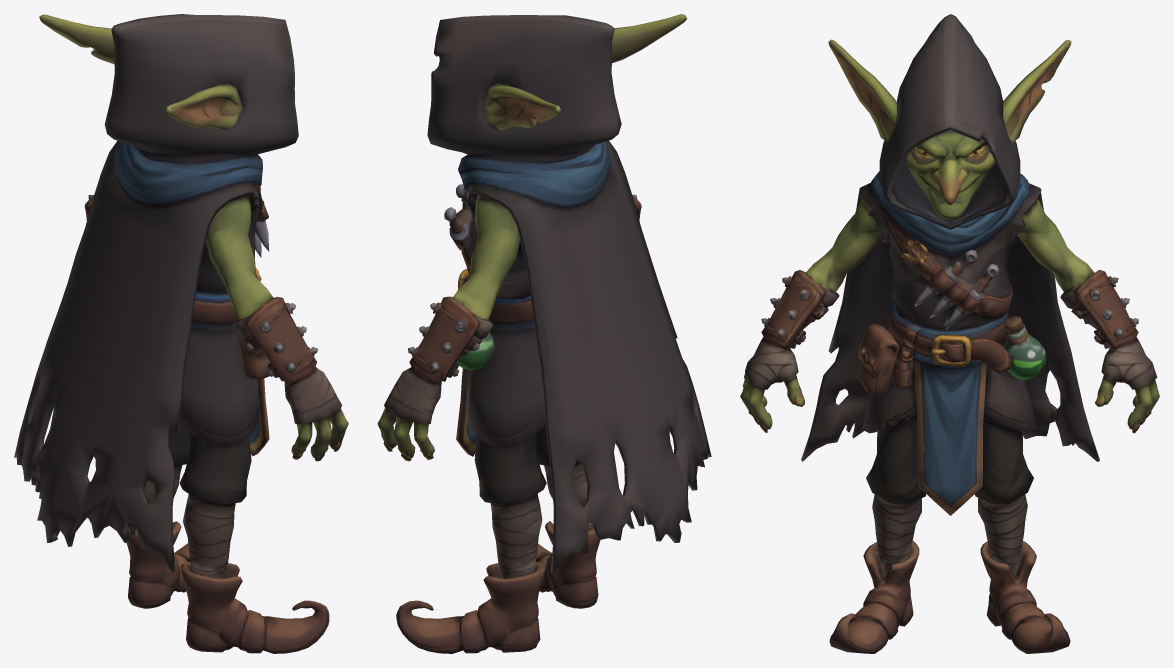
File: raider_tripo.glb
The picture shows the model from 3 angles, left to right: view 1: azimuth 30°, elevation 25°; view 2: azimuth 150°, elevation 25°; view 3: azimuth 270°, elevation 25°; orthographic projection. The views are drawn at different scales.
Visible parts, largest first — view 1: tripo_node_7824974d-b0c3-416f-9f0f-5dd5a4a30906; view 2: tripo_node_7824974d-b0c3-416f-9f0f-5dd5a4a30906; view 3: tripo_node_7824974d-b0c3-416f-9f0f-5dd5a4a30906.
Part boxes in pixels (x1,y1,x2,y2): tripo_node_7824974d-b0c3-416f-9f0f-5dd5a4a30906: (14, 14, 348, 653); tripo_node_7824974d-b0c3-416f-9f0f-5dd5a4a30906: (377, 14, 711, 653); tripo_node_7824974d-b0c3-416f-9f0f-5dd5a4a30906: (740, 14, 1159, 653).
Size of the model in its own units: 0.4121 by 0.998 by 0.6582.
Materials: 1 (1 with a texture image).
